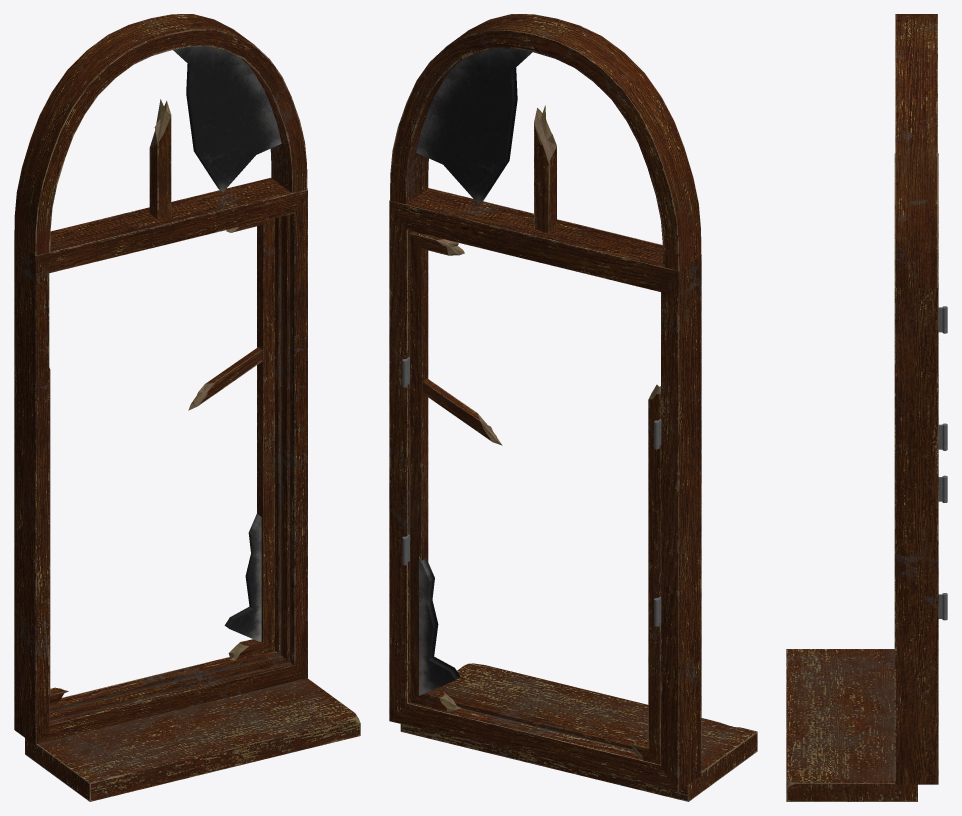
File: sm21_030_brokenwindow03a.fbx
3 renders of one model, left to right at view 1: azimuth 30°, elevation 25°; view 2: azimuth 150°, elevation 25°; view 3: azimuth 270°, elevation 25°, orthographic. The views are drawn at different scales.
Visible parts, largest first — view 1: LOD_1_Group_0_Sub_1__st2_police1fLeftWindow01, LOD_1_Group_1_Sub_1__st2_police1fLeftWindow01_G; view 2: LOD_1_Group_0_Sub_1__st2_police1fLeftWindow01, LOD_1_Group_1_Sub_1__st2_police1fLeftWindow01_G; view 3: LOD_1_Group_0_Sub_1__st2_police1fLeftWindow01.
Boxes of the visible parts, x1=… form: LOD_1_Group_0_Sub_1__st2_police1fLeftWindow01: x1=14, y1=14, x2=360, y2=801; LOD_1_Group_1_Sub_1__st2_police1fLeftWindow01_G: x1=173, y1=46, x2=281, y2=641; LOD_1_Group_0_Sub_1__st2_police1fLeftWindow01: x1=389, y1=14, x2=757, y2=801; LOD_1_Group_1_Sub_1__st2_police1fLeftWindow01_G: x1=416, y1=48, x2=531, y2=695; LOD_1_Group_0_Sub_1__st2_police1fLeftWindow01: x1=786, y1=14, x2=947, y2=801.
Size of the model in its own units: 0.9043 by 2.21 by 0.4578.
